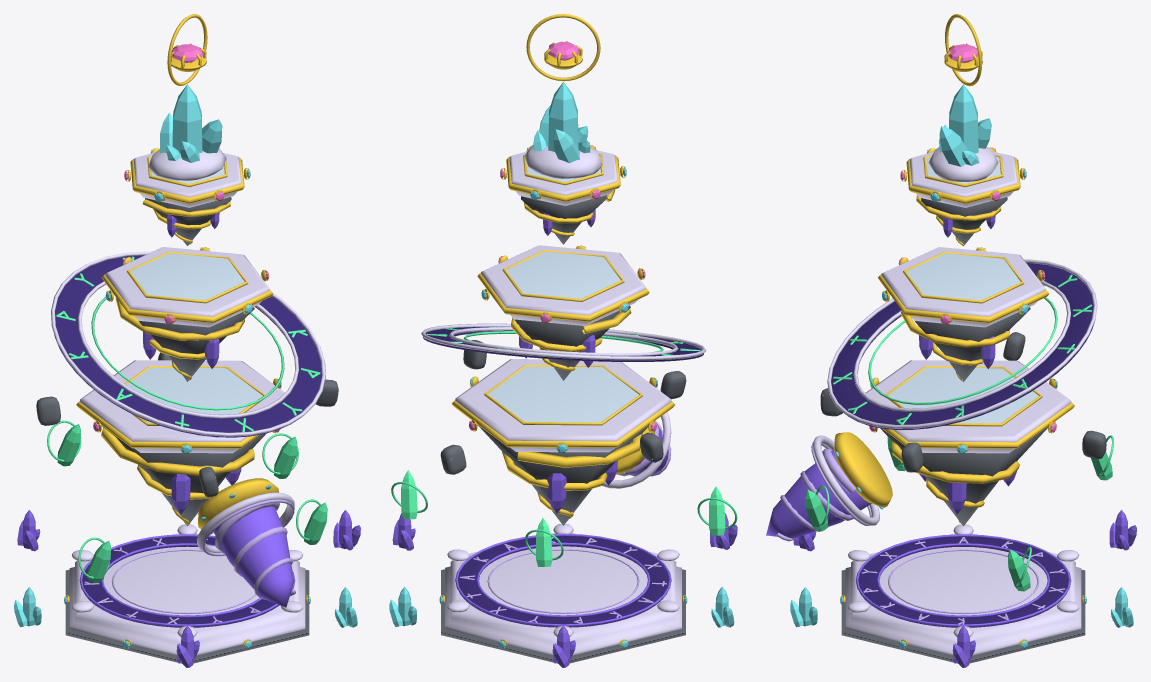
File: IceDrill_T4.fbx
The picture shows the model from 3 angles, left to right: view 1: azimuth 30°, elevation 25°; view 2: azimuth 150°, elevation 25°; view 3: azimuth 270°, elevation 25°; orthographic projection.
Visible parts, largest first — view 1: IceDrillT4Dais, IceDrillT4IslandA, IceDrillT4IslandB, IceDrillT4Orbit, IceDrillT4IslandC, IceDrillT4OrbitGlow, IceDrillT4BitA, IceDrillT4CrownGlow, IceDrillT4DaisCrystalsGlow, IceDrillT4Crown, IceDrillT4RuneStones, IceDrillT4BitACollar (+7 smaller); view 2: IceDrillT4Dais, IceDrillT4IslandA, IceDrillT4IslandB, IceDrillT4IslandC, IceDrillT4Orbit, IceDrillT4OrbitGlow, IceDrillT4CrownGlow, IceDrillT4DaisCrystalsGlow, IceDrillT4Crown, IceDrillT4RuneStones, IceDrillT4DaisGlow, IceDrillT4DaisCrystals (+2 smaller); view 3: IceDrillT4Dais, IceDrillT4IslandA, IceDrillT4IslandB, IceDrillT4Orbit, IceDrillT4IslandC, IceDrillT4OrbitGlow, IceDrillT4CrownGlow, IceDrillT4DaisCrystalsGlow, IceDrillT4BitA, IceDrillT4BitACollar, IceDrillT4Crown, IceDrillT4RuneStones (+5 smaller).
Boxes of the visible parts, left/top/right/bottom form: IceDrillT4Dais: left=64, top=533, right=310, bottom=663; IceDrillT4IslandA: left=76, top=360, right=284, bottom=526; IceDrillT4IslandB: left=101, top=247, right=272, bottom=381; IceDrillT4Orbit: left=51, top=251, right=325, bottom=437; IceDrillT4IslandC: left=125, top=148, right=249, bottom=245; IceDrillT4OrbitGlow: left=47, top=256, right=327, bottom=583; IceDrillT4BitA: left=213, top=506, right=294, bottom=607; IceDrillT4CrownGlow: left=160, top=44, right=222, bottom=162; IceDrillT4DaisCrystalsGlow: left=14, top=510, right=360, bottom=667; IceDrillT4Crown: left=148, top=14, right=226, bottom=180; IceDrillT4RuneStones: left=36, top=352, right=338, bottom=497; IceDrillT4BitACollar: left=198, top=478, right=278, bottom=532; IceDrillT4Dais: left=440, top=533, right=686, bottom=663; IceDrillT4IslandA: left=452, top=359, right=674, bottom=525; IceDrillT4IslandB: left=477, top=245, right=649, bottom=380; IceDrillT4IslandC: left=501, top=145, right=626, bottom=244; IceDrillT4Orbit: left=421, top=323, right=706, bottom=361; IceDrillT4OrbitGlow: left=391, top=326, right=737, bottom=566; IceDrillT4CrownGlow: left=533, top=41, right=590, bottom=163; IceDrillT4DaisCrystalsGlow: left=389, top=512, right=737, bottom=667; IceDrillT4Crown: left=524, top=14, right=602, bottom=178; IceDrillT4RuneStones: left=440, top=340, right=686, bottom=474; IceDrillT4DaisGlow: left=439, top=537, right=687, bottom=648; IceDrillT4DaisCrystals: left=447, top=523, right=679, bottom=636; IceDrillT4Dais: left=841, top=533, right=1086, bottom=663; IceDrillT4IslandA: left=865, top=360, right=1074, bottom=526; IceDrillT4IslandB: left=878, top=247, right=1048, bottom=381; IceDrillT4Orbit: left=827, top=259, right=1097, bottom=429; IceDrillT4IslandC: left=901, top=147, right=1025, bottom=246; IceDrillT4OrbitGlow: left=805, top=274, right=1113, bottom=591; IceDrillT4CrownGlow: left=939, top=44, right=991, bottom=166; IceDrillT4DaisCrystalsGlow: left=790, top=510, right=1136, bottom=667; IceDrillT4BitA: left=766, top=449, right=871, bottom=538; IceDrillT4BitACollar: left=834, top=432, right=892, bottom=507; IceDrillT4Crown: left=928, top=14, right=998, bottom=181; IceDrillT4RuneStones: left=820, top=332, right=1106, bottom=472.
Size of the model in its own units: 319 by 525 by 300.
